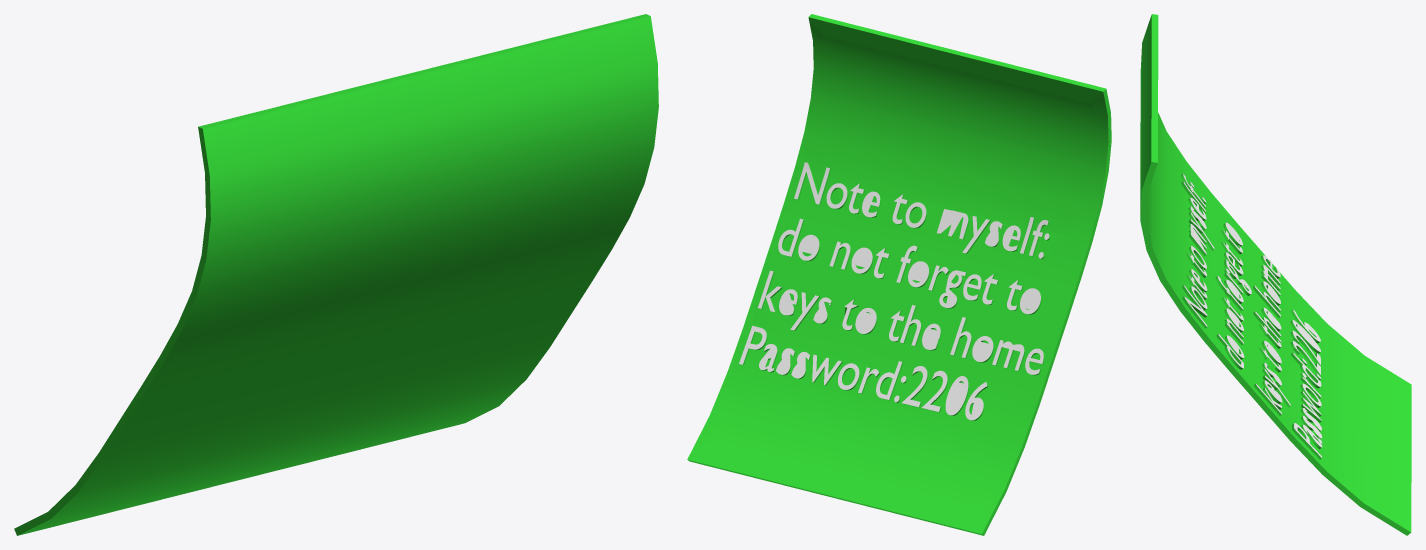
Rendered from postit.fbx.
3 renders of one model, left to right at view 1: azimuth 30°, elevation 25°; view 2: azimuth 150°, elevation 25°; view 3: azimuth 270°, elevation 25°, orthographic. The views are drawn at different scales.
Parts seen in each view (by area): view 1: BézierCurve.001; view 2: BézierCurve.001; view 3: BézierCurve.001.
Part boxes in pixels (x1,y1,x2,y2): BézierCurve.001: (14, 14, 658, 535); BézierCurve.001: (687, 14, 1111, 535); BézierCurve.001: (1140, 14, 1411, 535).
Size of the model in its own units: 1.33 by 1.55 by 1.01.
